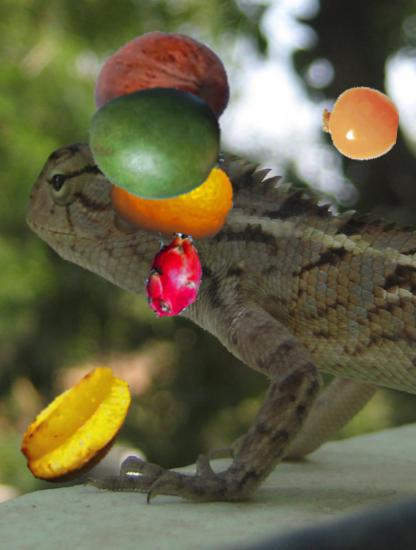Carambula: (15, 364, 146, 495)
Kumquats: (111, 135, 234, 258)
Mango: (86, 74, 225, 213)
Nut: (99, 27, 228, 156)
Physalis: (319, 83, 399, 163)
Pitahaya: (128, 233, 217, 322)
